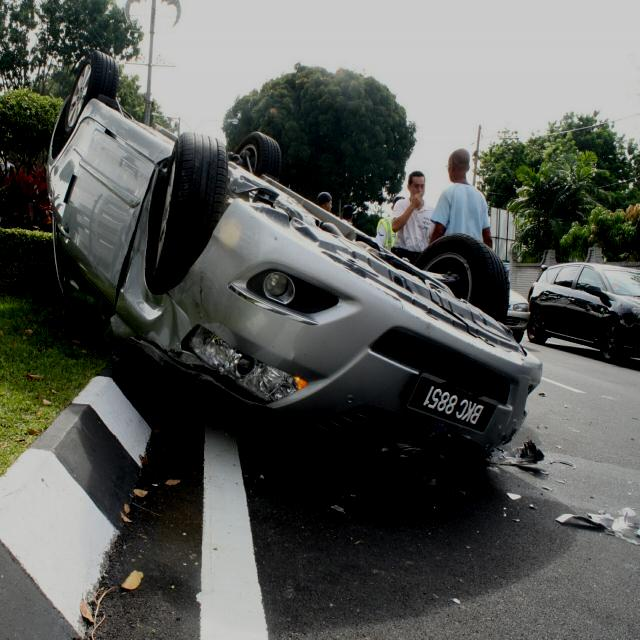accident: (50, 55, 546, 492)
